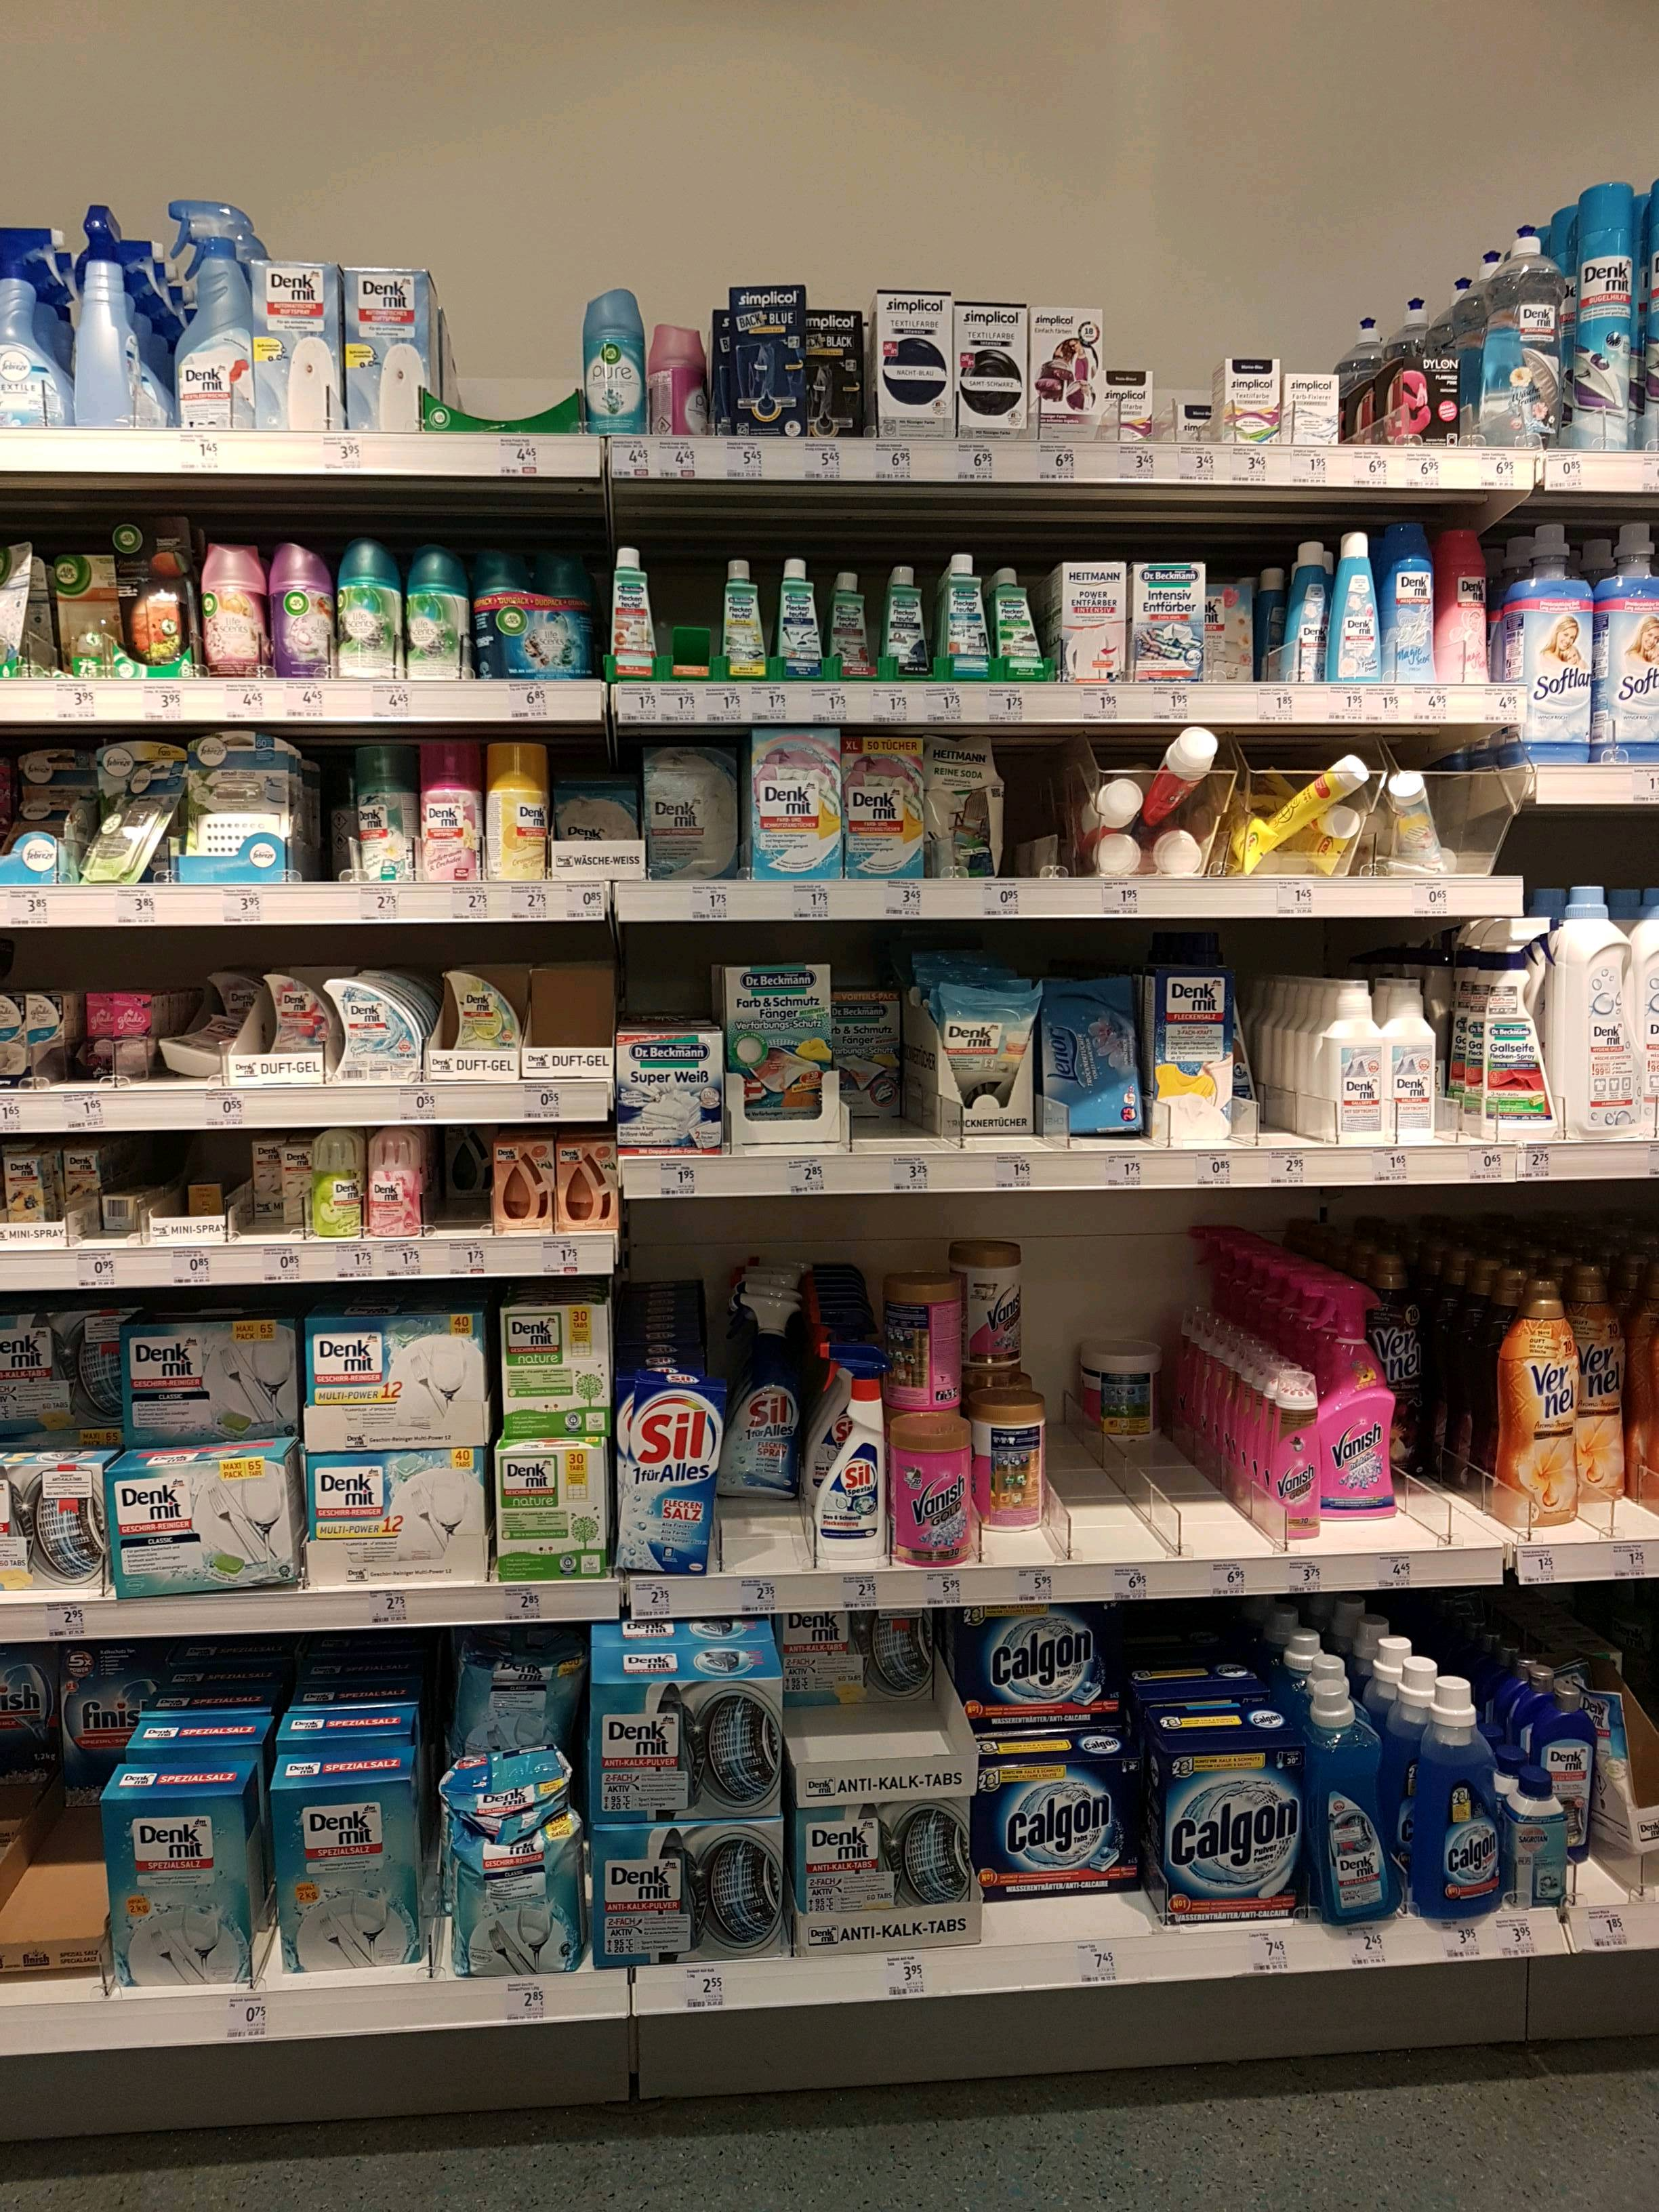Misplacement: (641, 730, 748, 880)
